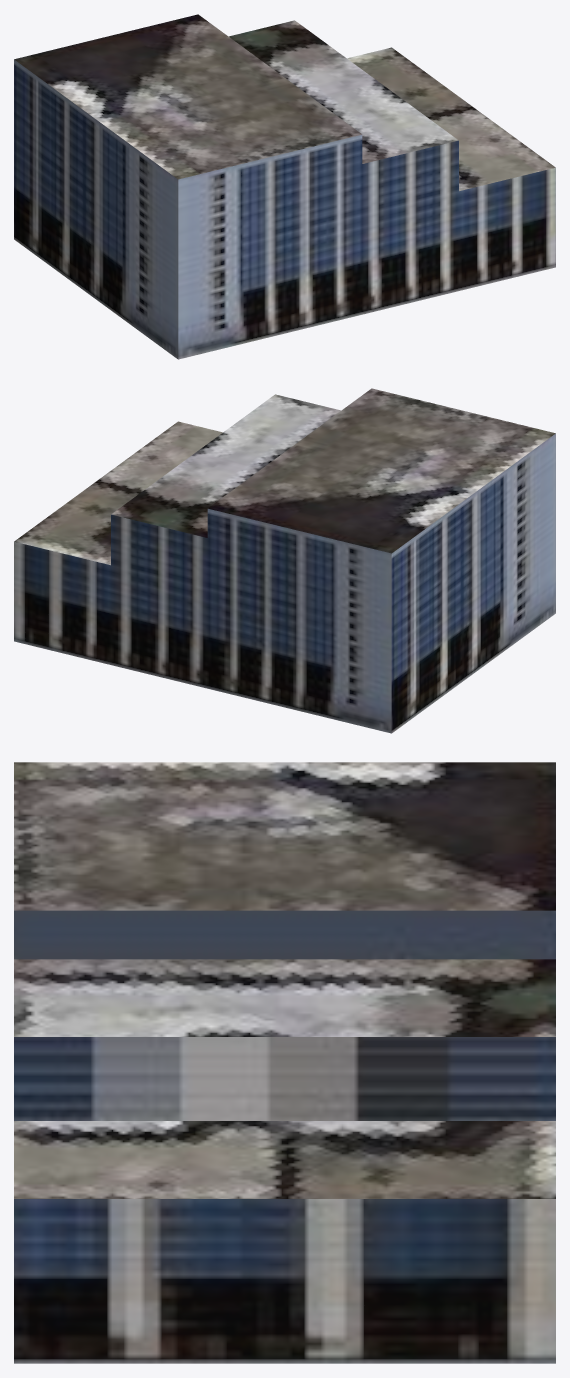
3 views of the same model, one above another, from view 1: azimuth 30°, elevation 25°; view 2: azimuth 150°, elevation 25°; view 3: azimuth 270°, elevation 25° (orthographic). The views are drawn at different scales.
Parts seen in each view (by area): view 1: b73; view 2: b73; view 3: b73.
Part boxes in pixels (box(x1,y1,x2,y2)): b73: box(14, 14, 555, 359); b73: box(14, 388, 555, 733); b73: box(14, 762, 555, 1363).
Bounding box in the file's own units: 31.46 × 14.33 × 23.68.
1 material, 1 textured.
